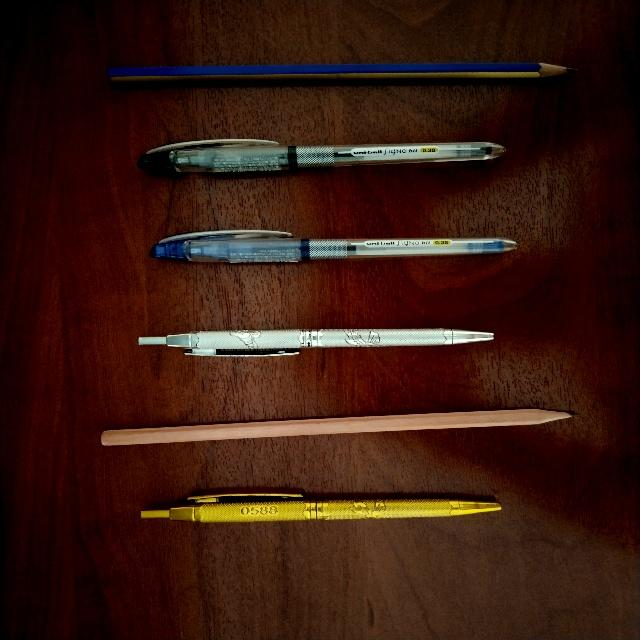pen: (137, 139, 504, 175), (150, 230, 516, 262)
pencil: (101, 409, 570, 445), (108, 62, 572, 82)
signature pen: (141, 493, 500, 522), (138, 329, 493, 356)
